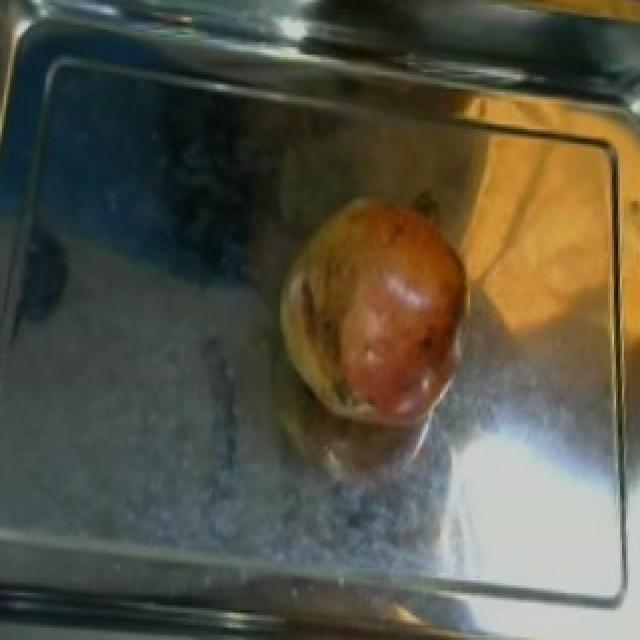fruit: (264, 171, 482, 444)
